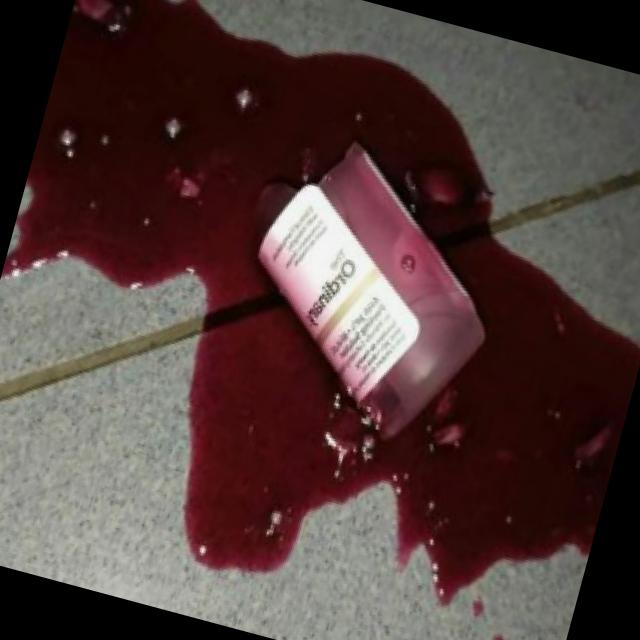PecahanKaca: (208, 118, 530, 460)
